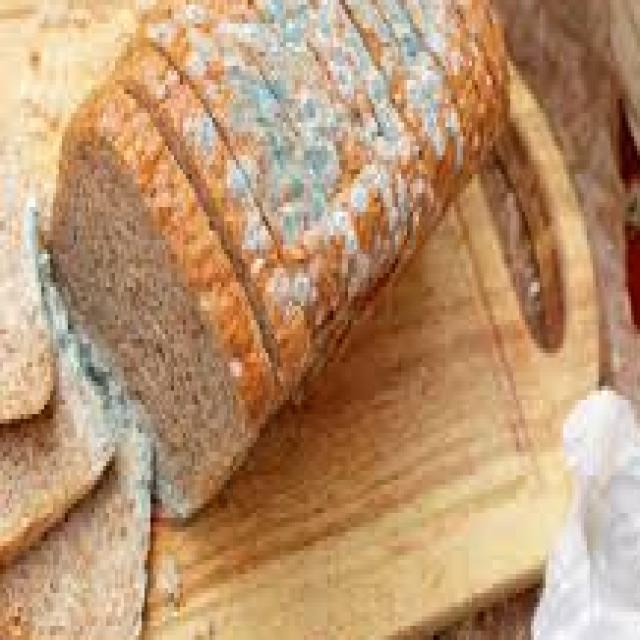inorganic: (1, 73, 531, 500)
organic: (16, 95, 593, 630)
